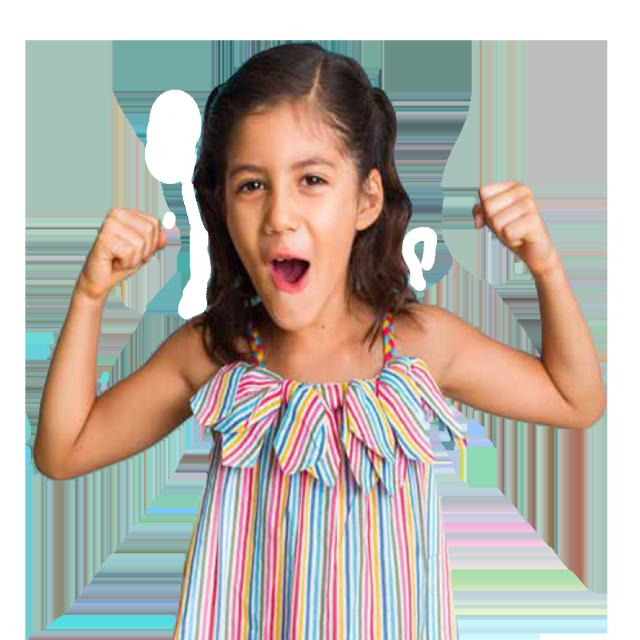child: (37, 38, 610, 640)
